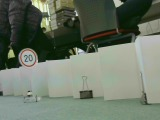speed_20: (17, 47, 39, 68)
